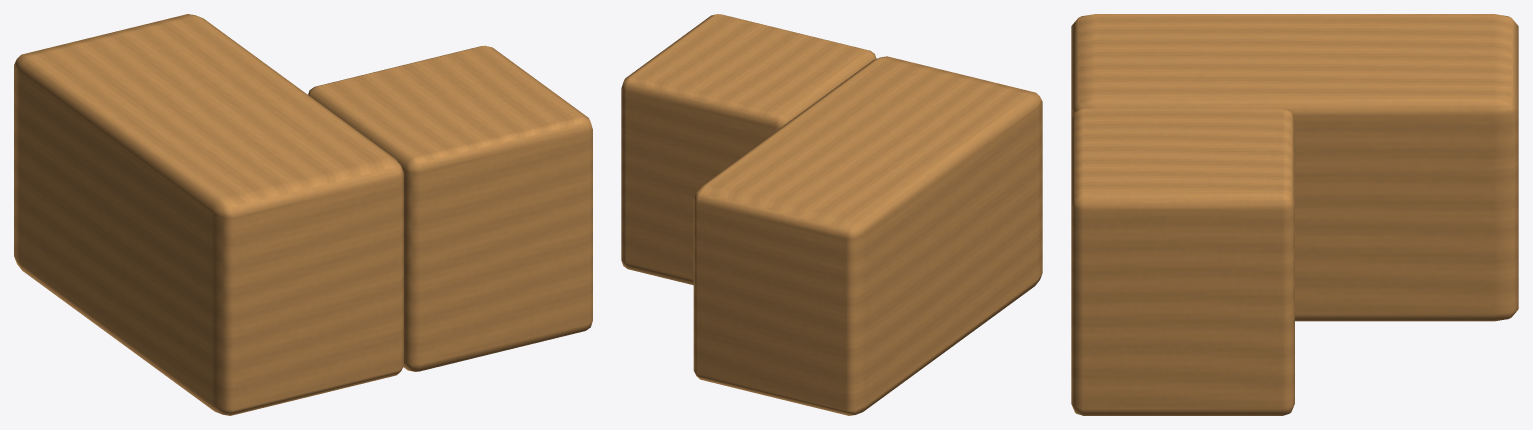
Rendered from wall_corner_L.glb.
3 renders of one model, left to right at view 1: azimuth 30°, elevation 25°; view 2: azimuth 150°, elevation 25°; view 3: azimuth 270°, elevation 25°, orthographic. The views are drawn at different scales.
Parts seen in each view (by area): view 1: Corner long arm, Corner short arm; view 2: Corner long arm, Corner short arm; view 3: Corner long arm, Corner short arm.
Boxes of the visible parts, box(x1,y1,x2,y2) form: Corner long arm: box(14, 14, 403, 415); Corner short arm: box(308, 45, 592, 371); Corner long arm: box(693, 56, 1042, 415); Corner short arm: box(621, 14, 876, 285); Corner long arm: box(1071, 14, 1518, 321); Corner short arm: box(1071, 108, 1294, 415).
Size of the model in its own units: 2 by 1.1 by 2.
1 material, 1 textured.
